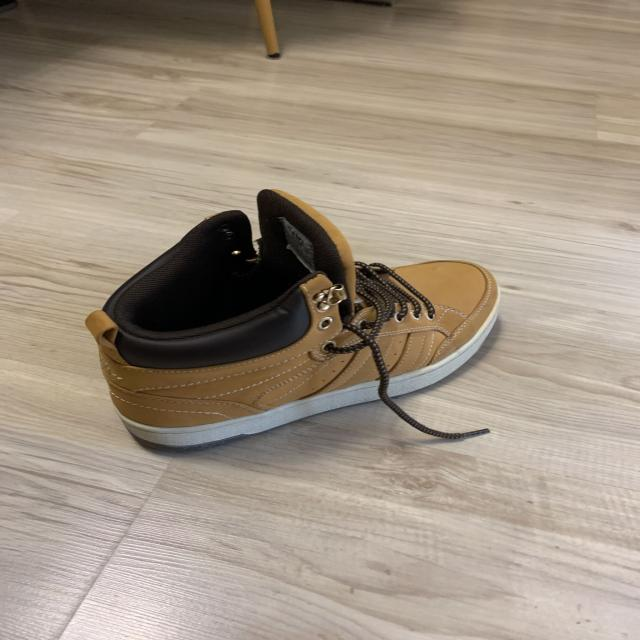shoes: (97, 184, 503, 455)
